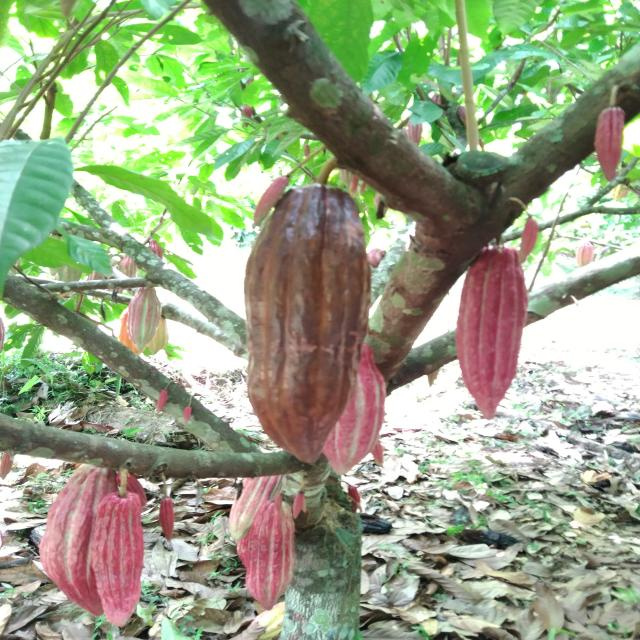Fitoftora: (241, 190, 371, 461)
Sana: (464, 247, 522, 416), (57, 463, 97, 618), (98, 492, 145, 622), (334, 359, 380, 479), (247, 503, 289, 609), (248, 176, 288, 234), (128, 289, 160, 353), (597, 110, 620, 183), (160, 498, 177, 538), (522, 221, 539, 261), (576, 240, 592, 268), (179, 405, 195, 430), (342, 488, 361, 506), (155, 392, 169, 413), (298, 492, 305, 514)
